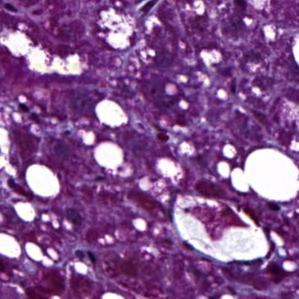ballooning: (172, 192, 271, 264)
